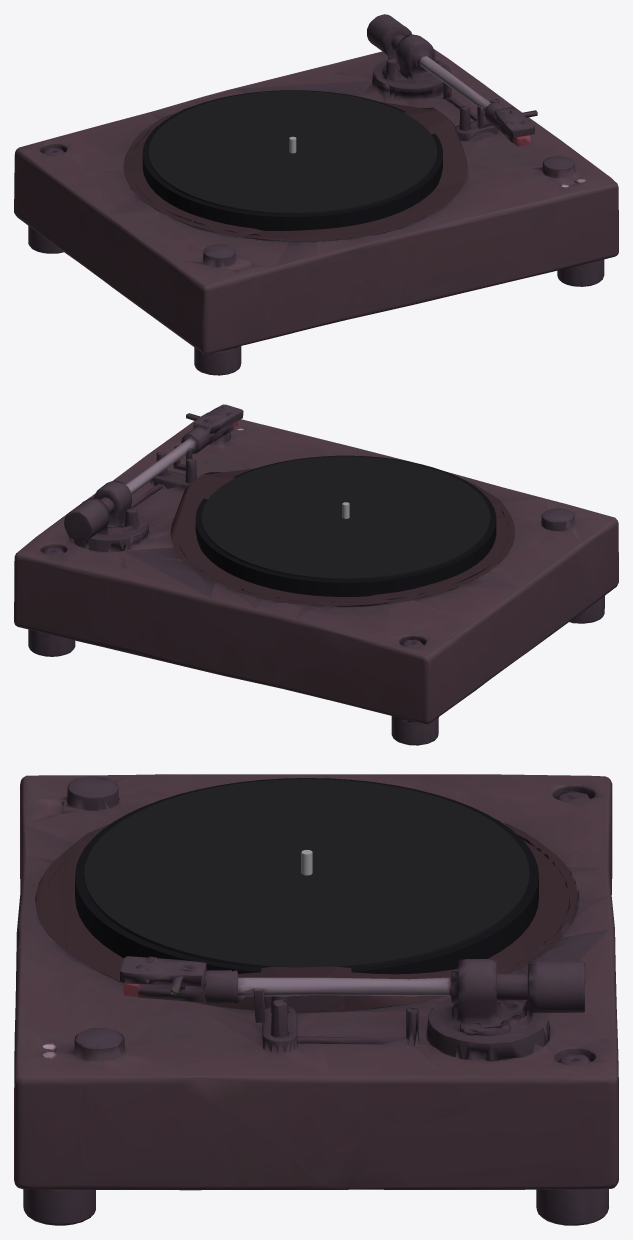
The model's file is turntable.glb.
3 views of the same model, one above another, from view 1: azimuth 30°, elevation 25°; view 2: azimuth 150°, elevation 25°; view 3: azimuth 270°, elevation 25° (orthographic). The views are drawn at different scales.
Parts seen in each view (by area): view 1: body, platter, tonearm; view 2: body, platter, tonearm; view 3: body, platter, tonearm.
Boxes of the visible parts, bbox=[...] form: body: bbox=[14, 49, 618, 375]; platter: bbox=[142, 90, 442, 230]; tonearm: bbox=[367, 14, 537, 146]; body: bbox=[14, 412, 618, 745]; platter: bbox=[195, 455, 496, 596]; tonearm: bbox=[64, 404, 243, 551]; body: bbox=[14, 774, 618, 1225]; platter: bbox=[75, 778, 538, 974]; tonearm: bbox=[120, 956, 585, 1061].
Bounding box in the file's own units: 0.4799 × 0.1623 × 0.3912.
Materials: 1 (1 with a texture image).
